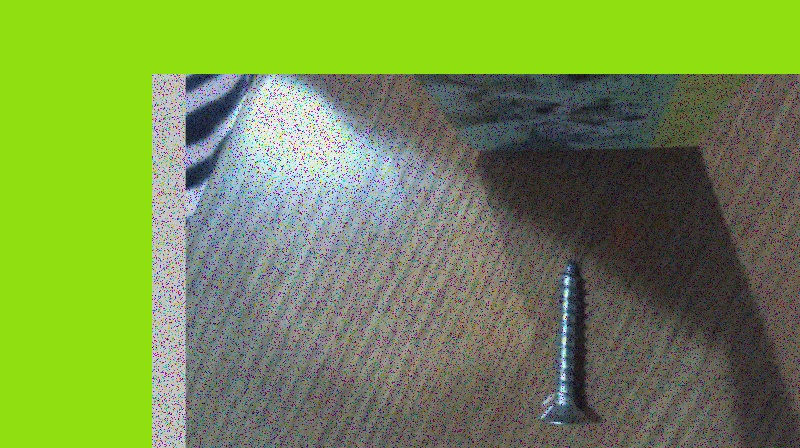S001: (533, 250, 598, 429)
